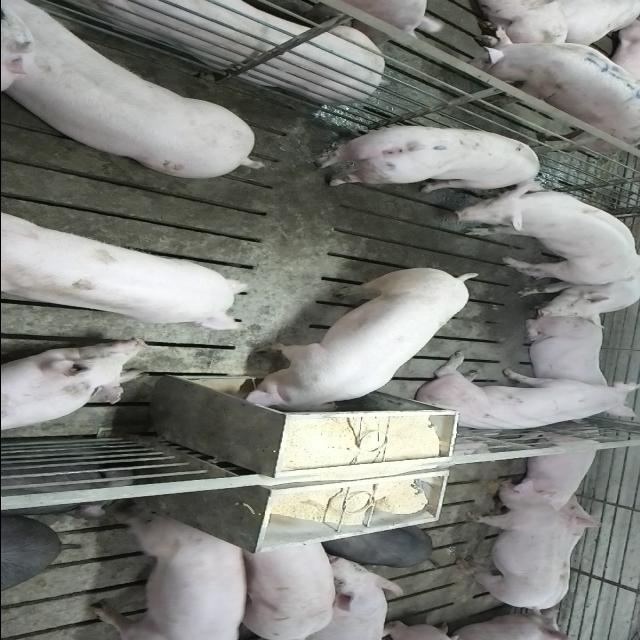Feeding: (239, 271, 477, 421)
Sitting: (412, 354, 636, 436), (506, 272, 638, 320)
Standing: (5, 5, 266, 184), (0, 196, 248, 334), (448, 20, 640, 149), (87, 512, 247, 638), (310, 124, 546, 194), (456, 478, 568, 612), (232, 536, 334, 640)
Sternal_lying: (57, 0, 450, 102), (0, 342, 148, 437), (508, 429, 604, 506), (518, 315, 610, 394)
